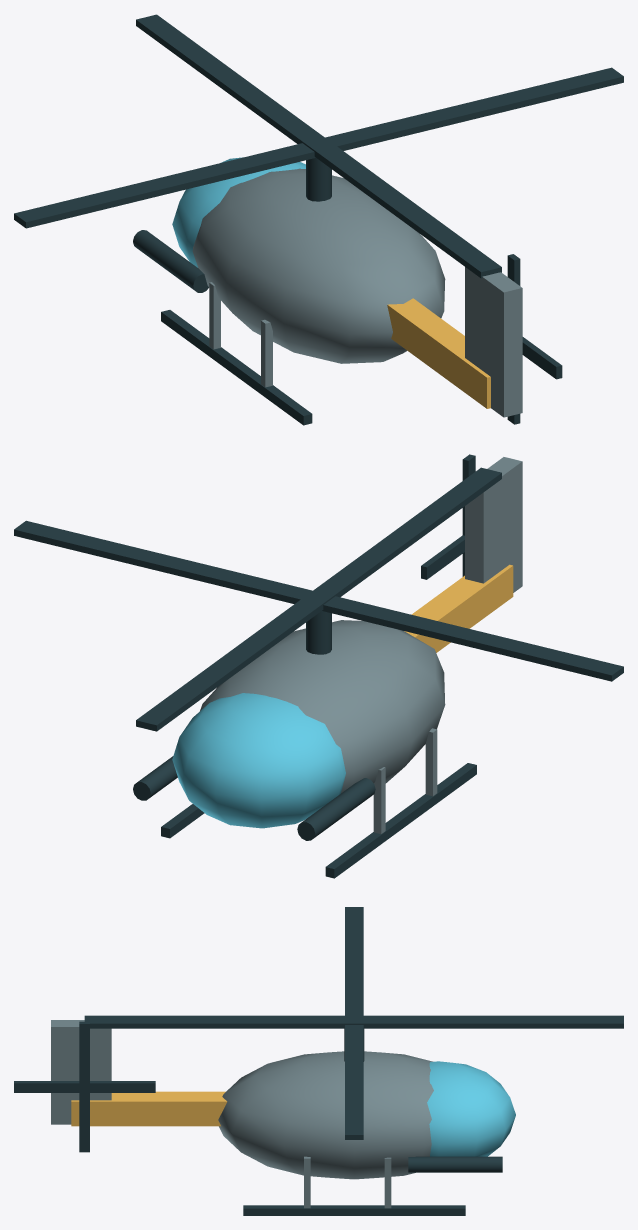
Rendered from helicopter.glb.
3 renders of one model, top to bottom at view 1: azimuth 30°, elevation 25°; view 2: azimuth 150°, elevation 25°; view 3: azimuth 270°, elevation 25°, orthographic. The views are drawn at different scales.
Parts seen in each view (by area): view 1: helicopter; view 2: helicopter; view 3: helicopter.
Part boxes in pixels (x1,y1,x2,y2): helicopter: [14, 14, 623, 425]; helicopter: [14, 454, 623, 878]; helicopter: [14, 907, 623, 1215].
Bounding box in the file's own units: 8 × 2.76 × 9.05.
